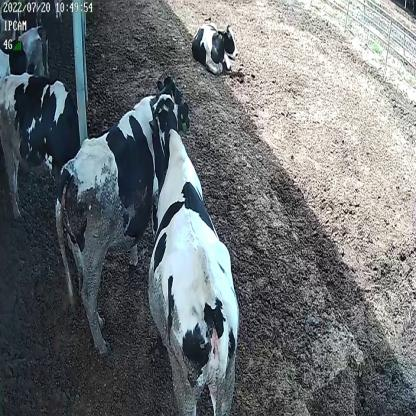cow: (56, 72, 190, 352), (149, 92, 241, 414), (0, 68, 80, 219), (191, 8, 240, 75)
